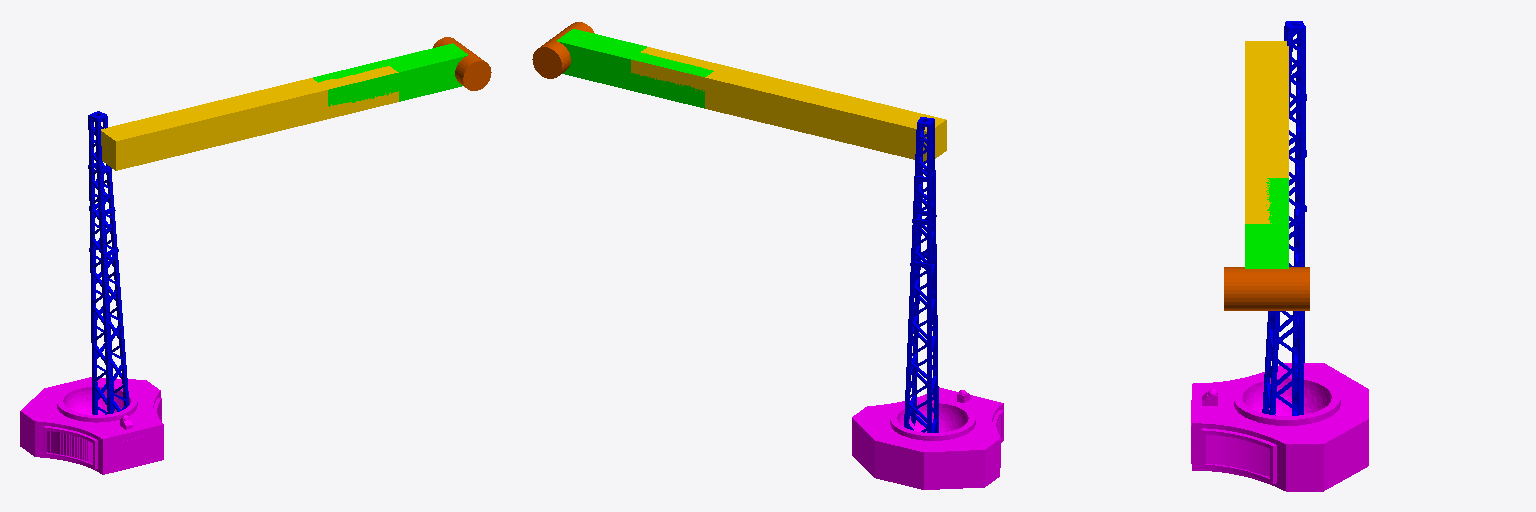
URDF robot description (jerry):
<?xml version="1.0"?>
 <robot name="jerry">

 <material name="clr_1">
 <color rgba="1 0.8 0 0.8" />
 </material>
 <material name="green">
 <color rgba="0 1 0 0.8" />
 </material>
  <material name="blue">
 <color rgba="0 0 1 0.8" />
 </material>

<material name="clr_3">
 <color rgba="1 0 1 0.8" />
 </material>

 <link name="base_link" />
     <link name="base">
         <visual>
             <geometry>
           <!-- <box size="0.1 0.1 -1" /> -->
               <mesh filename="untitled.stl"/>
               </geometry>
             <origin xyz="0 0 -1" />
             <material name="clr_3" />
         </visual>
      </link>

 
     <link name="link0">
         <visual>
             <geometry>
              <!-- <box size="0.1 0.1 -1" /> -->
               <mesh filename="final_direk_final.stl"/>
               </geometry>
             <origin xyz="0 0 -1" />
             <material name="blue" />
         </visual>
      </link>

     <link name="link1">
         <visual>
             <geometry>
             <box size="1 0.1 0.1"  />
             </geometry>
             <origin xyz="0.5 0 0" />
             <material name="clr_1" />
         </visual>
      </link>

 <link name="link2">
     <visual>
         <geometry>
         <box size="0.5 0.1 0.1" />
         </geometry>
         <origin xyz="0.5 0 0" />
         <material name="green" />
     </visual>
 </link>

 <link name="end">
     <visual>
         <geometry>
         <cylinder radius = "0.05" length="0.2" />
         </geometry>
         <origin xyz="0.25 0 0" />
     </visual>
 </link>

<joint name="base_q" type="continuous">
     <parent link="base_link" />
     <child link="base" />
     <axis xyz="0 0 -1" />
 </joint>

 <joint name="q0" type="continuous">
     <parent link="base" />
     <child link="link0" />
     <axis xyz="0 0 -1" />
 </joint>

 <joint name="q1" type="continuous">
 <parent link="link0" />
 <child link="link1" />
 <axis xyz="0 -1 1" />
 </joint>

 <joint name="q2" type="prismatic">
     <parent link="link1" />
     <child link="link2" />
     <origin xyz="0.5 0 0" rpy="1.5708 0 0"/>
     <limit effort="30" velocity="1.0" lower="-2.2" upper="0.7" />
     <axis xyz="1 0 0" />
 </joint>

 <joint name="notajoint" type="fixed">
     <parent link="link2" />
     <child link="end" />
     <origin xyz="0.5 0 0" />
 </joint>

 </robot>

--- Facts derived from the render (not from the file) ---
Views: 3 orthographic renders of the robot side by side, from view 1: azimuth 30°, elevation 25°; view 2: azimuth 150°, elevation 25°; view 3: azimuth 270°, elevation 25°.
Model jerry with 6 links and 5 joints (3 continuous, 1 prismatic, 1 fixed), rooted at base_link, posed every joint at zero.
Links seen in each view (by area): view 1: link1, base, link0, link2, end; view 2: link1, base, link0, link2, end; view 3: base, link1, link0, end, link2.
Link boxes in pixels (<box>): link1: <box>101,66,398,170</box>; base: <box>20,377,163,474</box>; link0: <box>88,111,129,414</box>; link2: <box>313,43,467,106</box>; end: <box>433,37,491,90</box>; link1: <box>631,47,946,161</box>; base: <box>852,387,1003,489</box>; link0: <box>904,117,938,432</box>; link2: <box>557,29,713,108</box>; end: <box>532,22,594,78</box>; base: <box>1191,363,1368,491</box>; link1: <box>1245,41,1288,223</box>; link0: <box>1262,21,1306,415</box>; end: <box>1224,267,1309,310</box>; link2: <box>1245,178,1288,268</box>.
Size in the robot's own frame: 1.53 by 0.4099 by 1.1 metres.
2 mesh visuals loaded from 2 distinct referenced files (2 binary STL).
